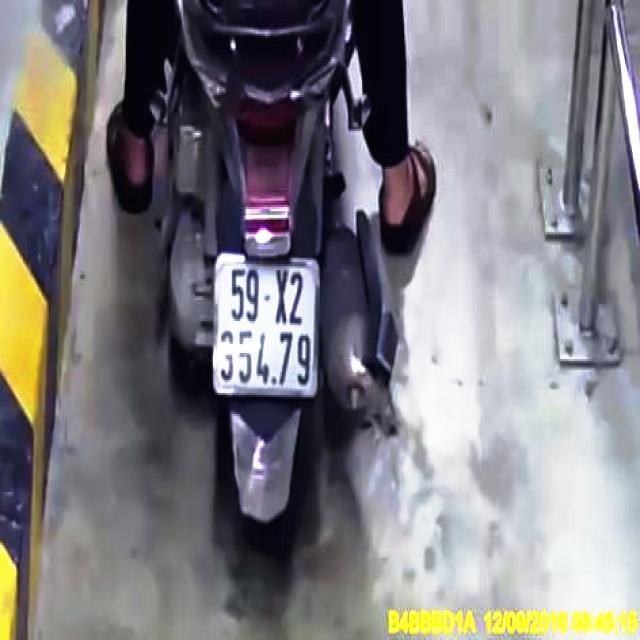license_plate: (213, 255, 319, 394)
